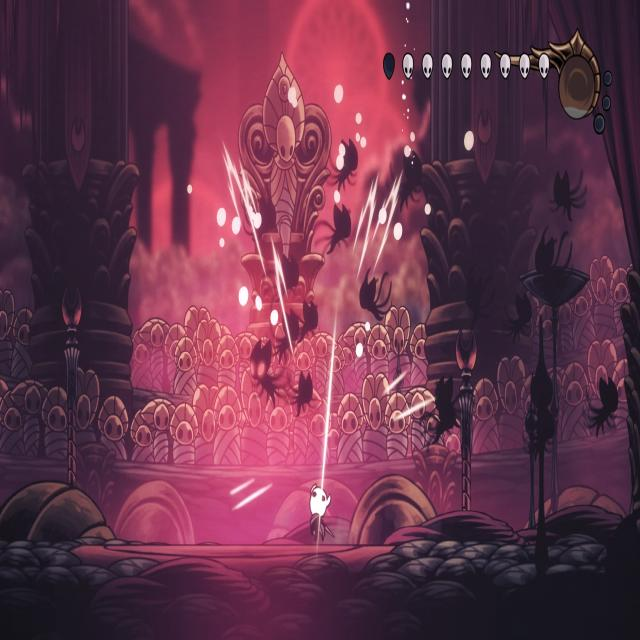Player: (307, 474, 332, 547)
Staggered_Grimm: (248, 337, 286, 410)
